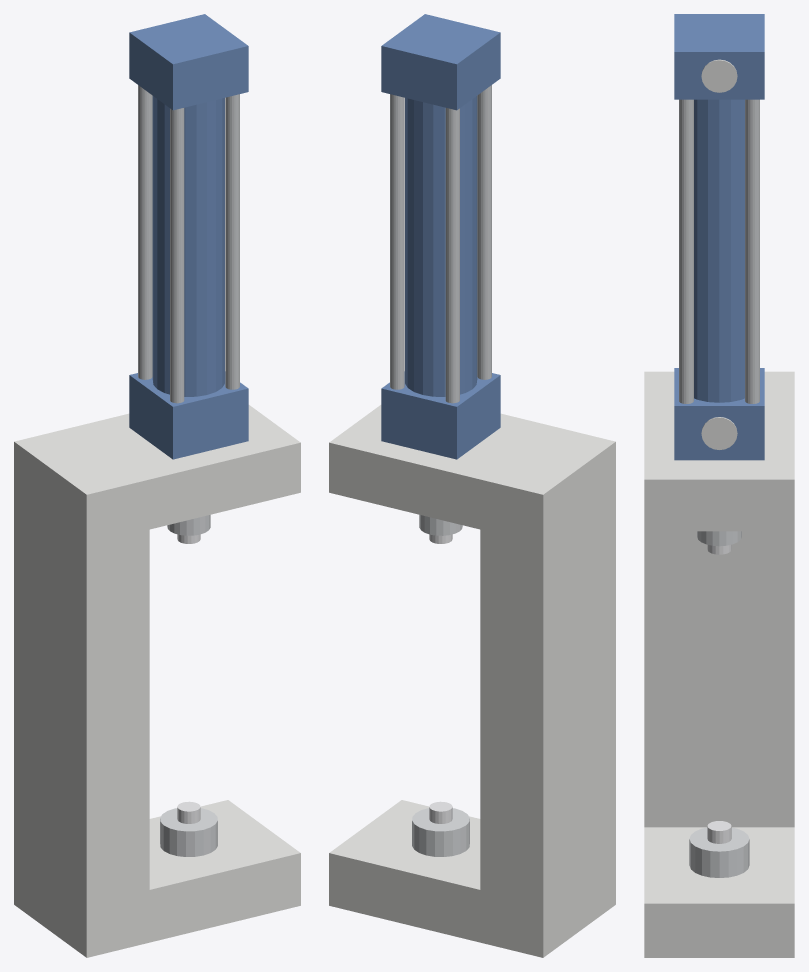
Rendered from head-rivet-c-hyd.glb.
The picture shows the model from 3 angles, left to right: view 1: azimuth 30°, elevation 25°; view 2: azimuth 150°, elevation 25°; view 3: azimuth 270°, elevation 25°; orthographic projection. The views are drawn at different scales.
Visible parts, largest first — view 1: body, cyl.rod; view 2: body, cyl.rod; view 3: body, cyl.port-rod, cyl.port-cap, cyl.rod.
Boxes of the visible parts, bbox=[...] form: body: bbox=[14, 14, 300, 957]; cyl.rod: bbox=[167, 515, 210, 543]; body: bbox=[329, 14, 615, 957]; cyl.rod: bbox=[419, 515, 462, 543]; body: bbox=[644, 14, 794, 957]; cyl.port-rod: bbox=[701, 417, 737, 449]; cyl.port-cap: bbox=[701, 59, 737, 92]; cyl.rod: bbox=[697, 531, 741, 554].
Size of what is drawn, in the model's own units: 0.17 by 0.6515 by 0.1.
